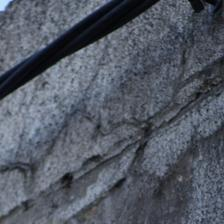Crack: (56, 65, 153, 156), (101, 155, 206, 224)
